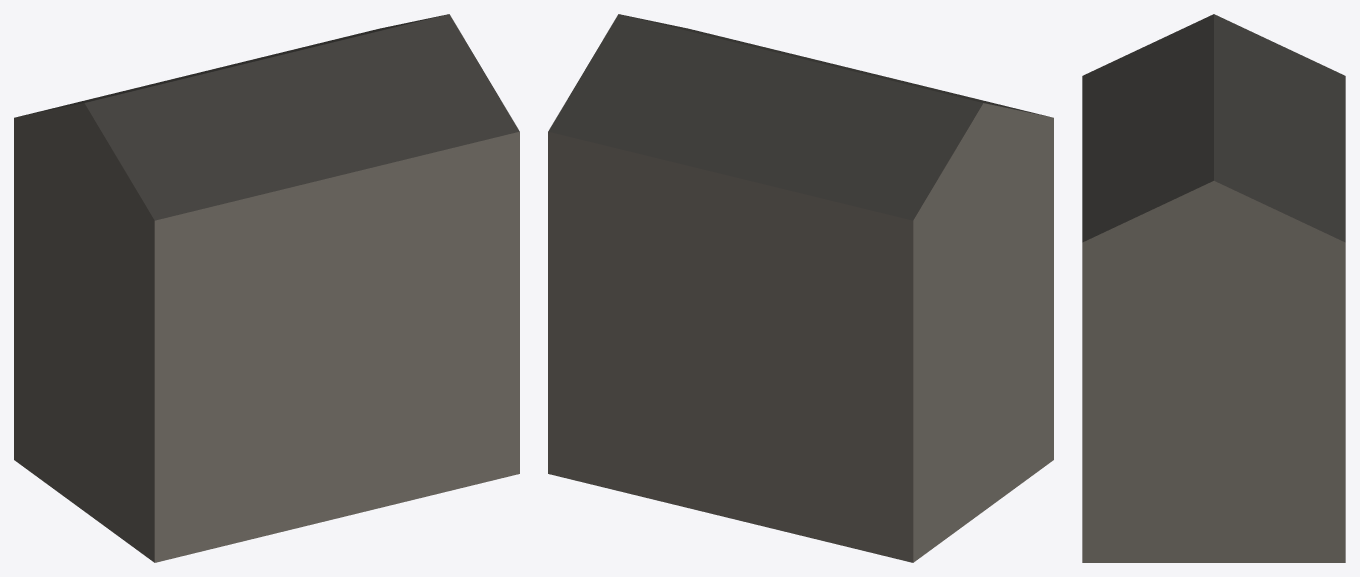
Rendered from House_2.glb.
The picture shows the model from 3 angles, left to right: view 1: azimuth 30°, elevation 25°; view 2: azimuth 150°, elevation 25°; view 3: azimuth 270°, elevation 25°; orthographic projection. The views are drawn at different scales.
Visible parts, largest first — view 1: Cube; view 2: Cube; view 3: Cube.
Part boxes in pixels (x1,y1,x2,y2): Cube: [14, 14, 519, 562]; Cube: [548, 14, 1053, 562]; Cube: [1082, 14, 1345, 562].
Size of the model in its own units: 14.57 by 15.57 by 9.72.
Materials: 1 (1 with a texture image).
